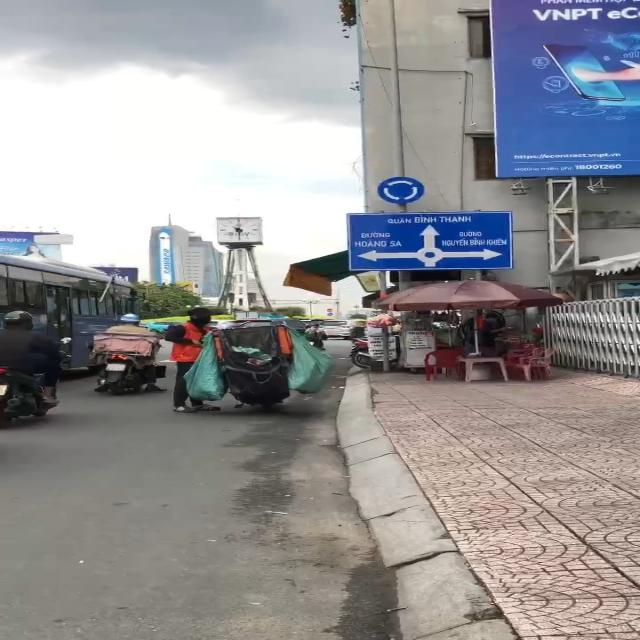Bien bao noi giao nhau chay theo vong xuyen: (373, 173, 432, 206)
